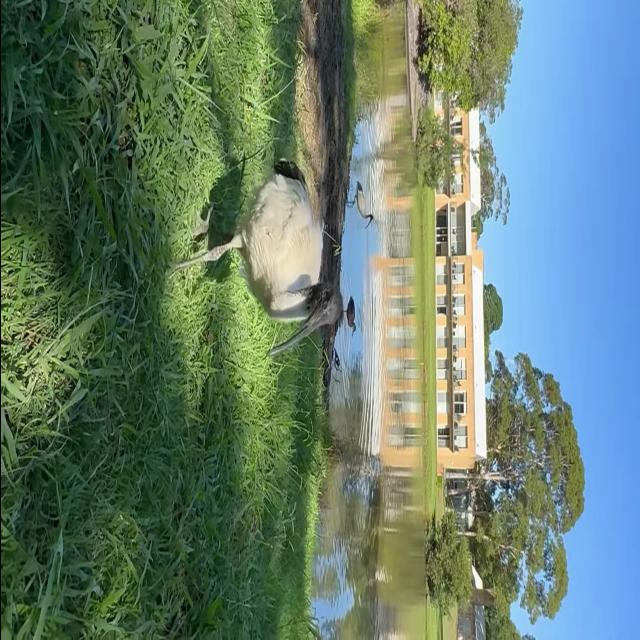Birds-Ibis: (162, 154, 344, 371), (339, 176, 376, 235)
Birds-Other: (342, 290, 358, 340)
